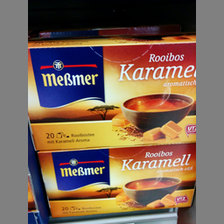tea: (28, 38, 194, 150), (38, 143, 195, 223)
